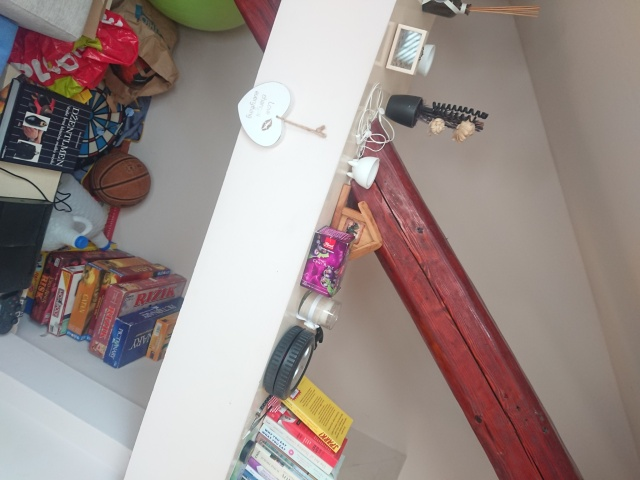Franck Black Currant Tea 60g: (298, 224, 357, 298)
